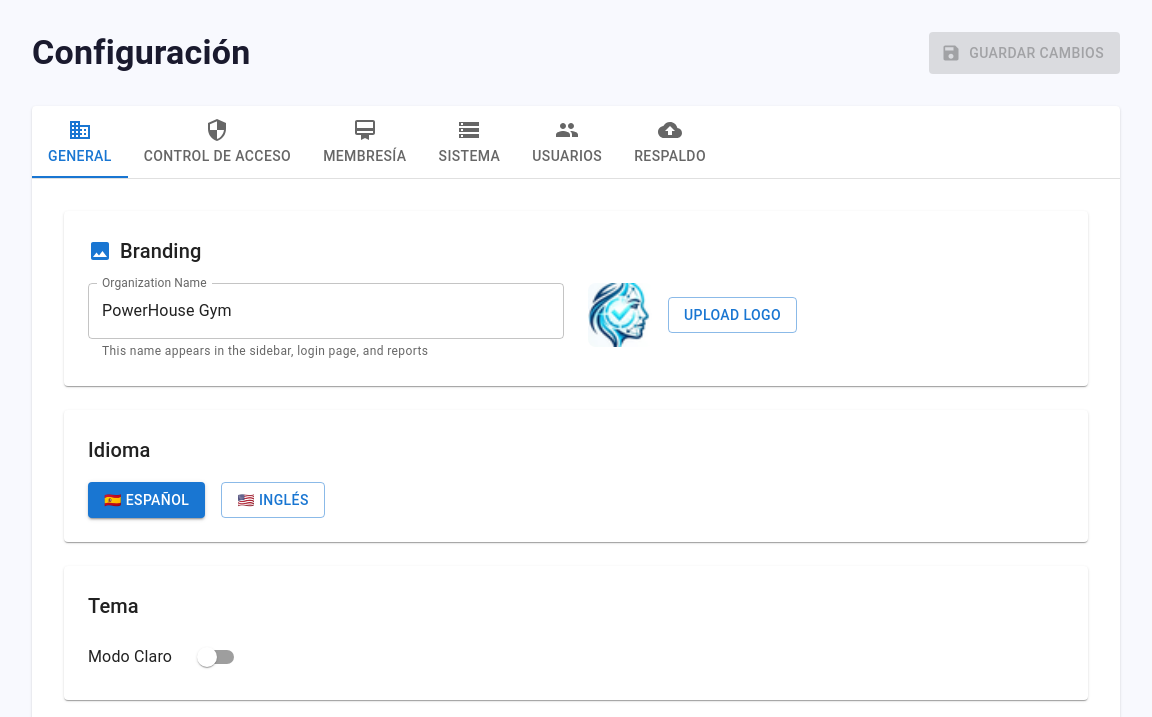
Test case: Settings — Backup tab (remote backup config) › admin: Test is disabled with a "select a transport" hint when the saved transport is none
Click the tab "Respaldo" at (670, 142), box [618,106,722,178]
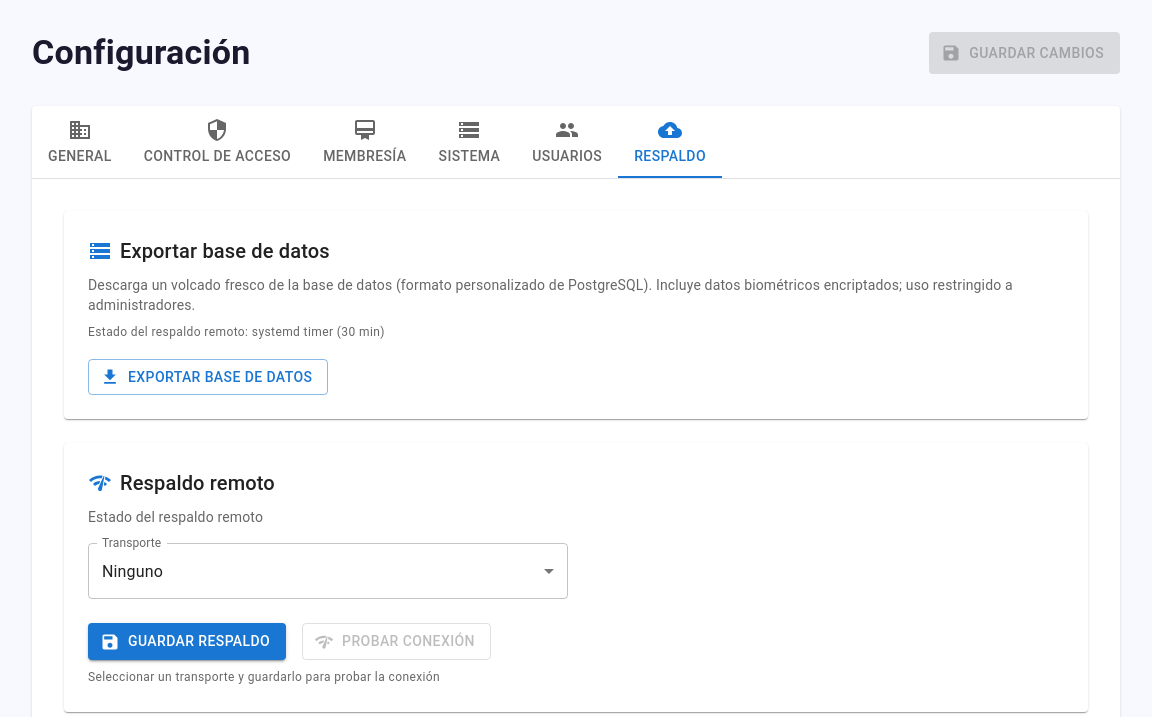
Expected: the button "Probar conexión" is disabled, [302,623,491,660]
